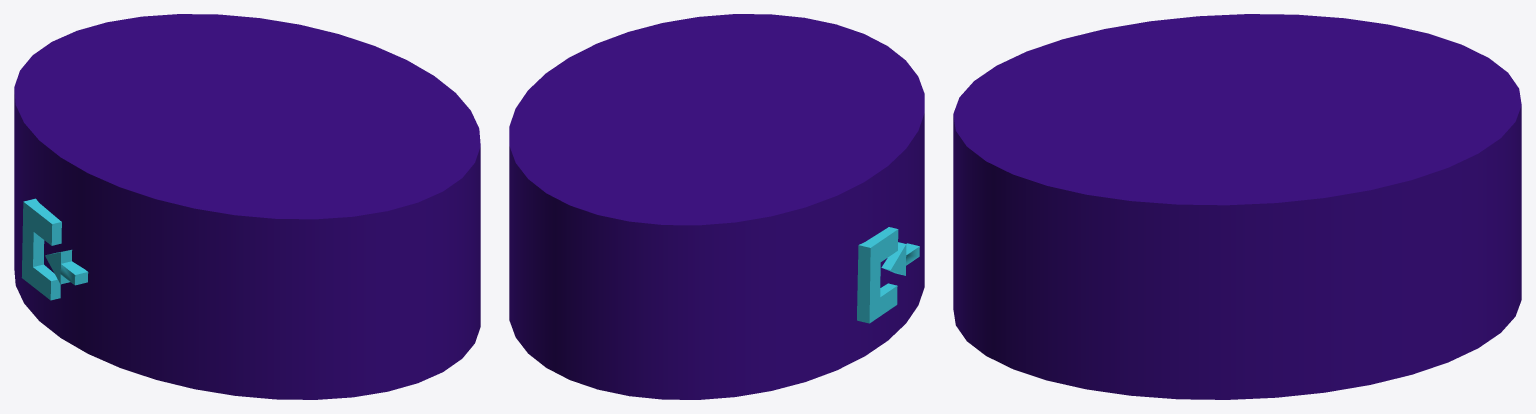
The model's file is purple.FBX.
3 renders of one model, left to right at view 1: azimuth 30°, elevation 25°; view 2: azimuth 150°, elevation 25°; view 3: azimuth 270°, elevation 25°, orthographic. The views are drawn at different scales.
Parts seen in each view (by area): view 1: Cylinder001; view 2: Cylinder001; view 3: Cylinder001.
Boxes of the visible parts, <box> form: Cylinder001: <box>14,14,480,399</box>; Cylinder001: <box>509,14,924,399</box>; Cylinder001: <box>953,14,1521,399</box>.
Size of the model in its own units: 32.51 by 15.02 by 39.74.
